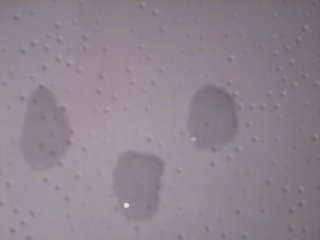Water_detected: (123, 159, 163, 212), (23, 116, 61, 162), (190, 97, 222, 136)
